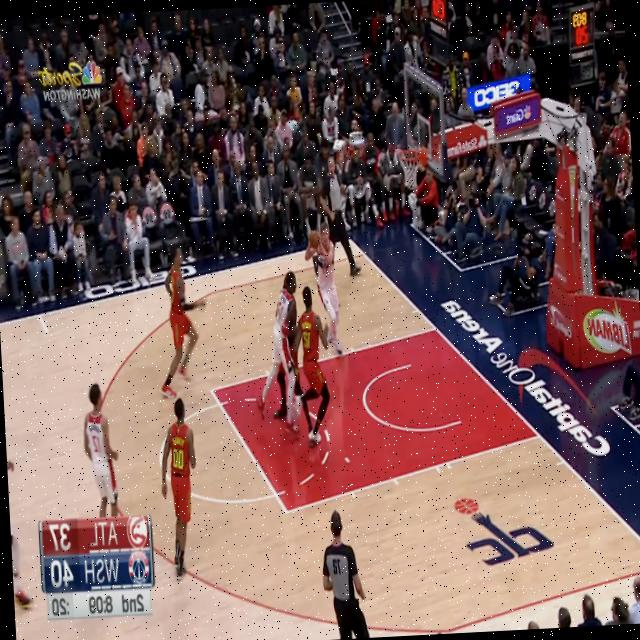Foul: (242, 266, 310, 451)
